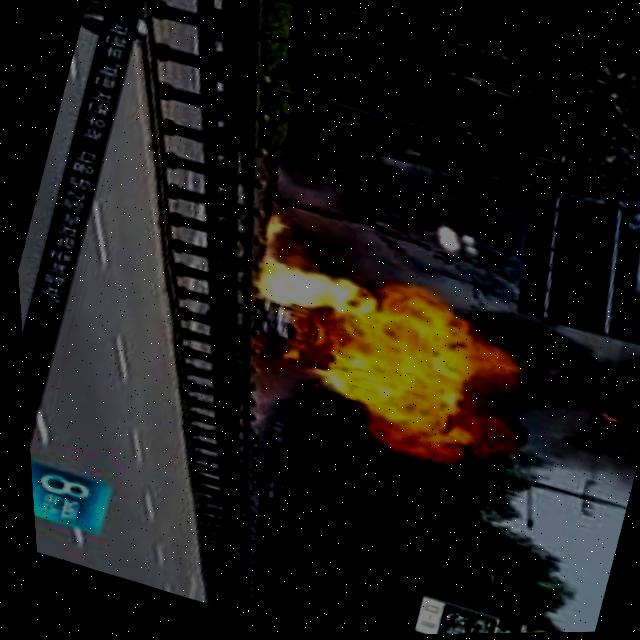Fire: (224, 240, 491, 461)
Smoke: (429, 293, 640, 511)
